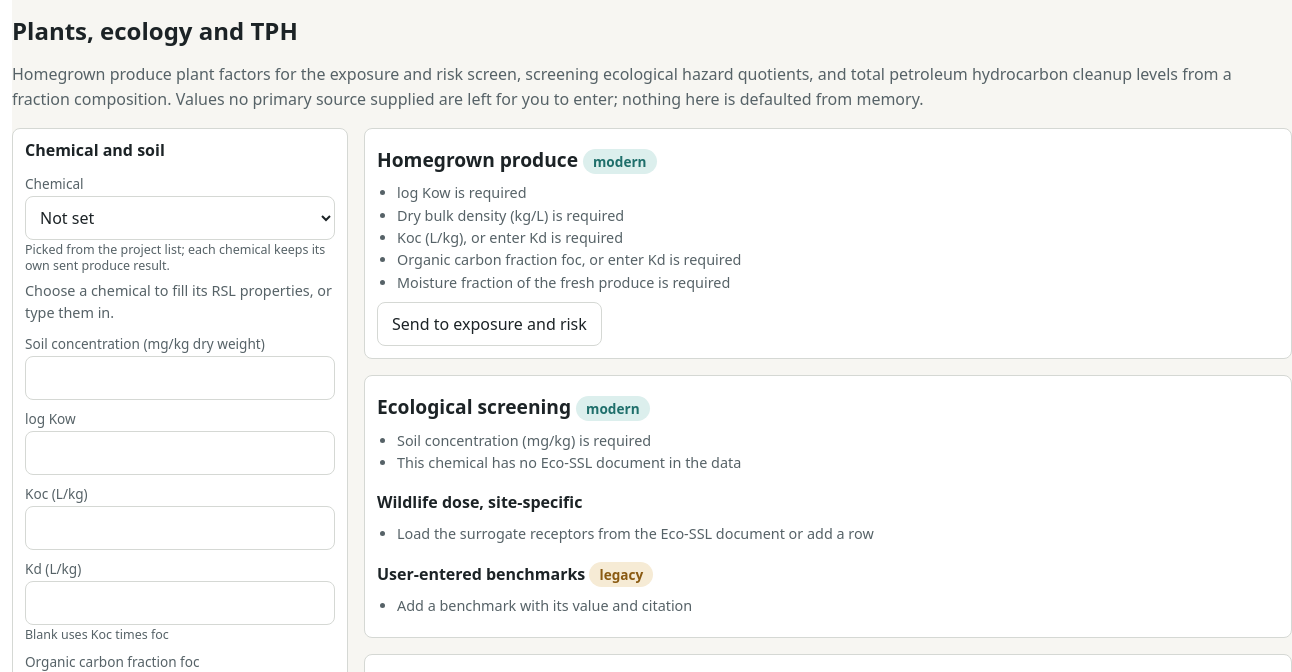
Test: PlantsEcoPage chemical from the project list › fills the properties from the RSL once the list chemical is picked
Select "Lead and Compounds" in the dropdown labelled "Chemical". click: (180, 218)
box: [25,196,335,240]
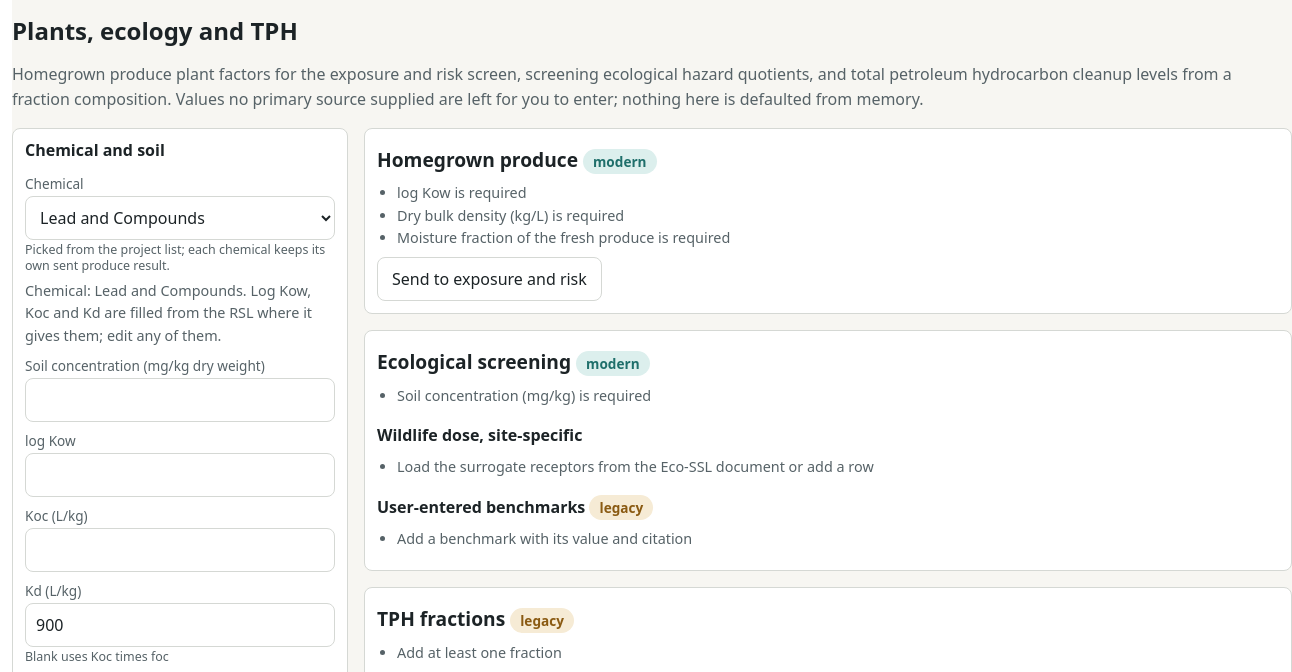
Check: the field labelled "Kd (L/kg) Blank uses Koc times foc" is not empty, box [25,603,335,647]
